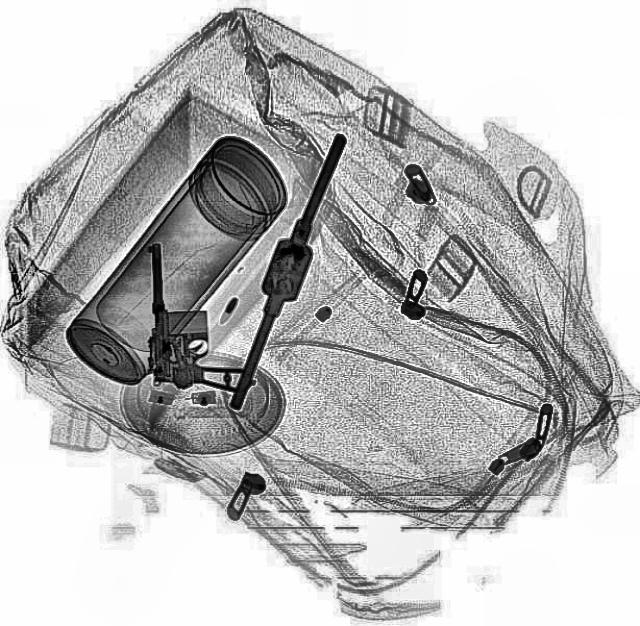Gun: (144, 244, 248, 392)
